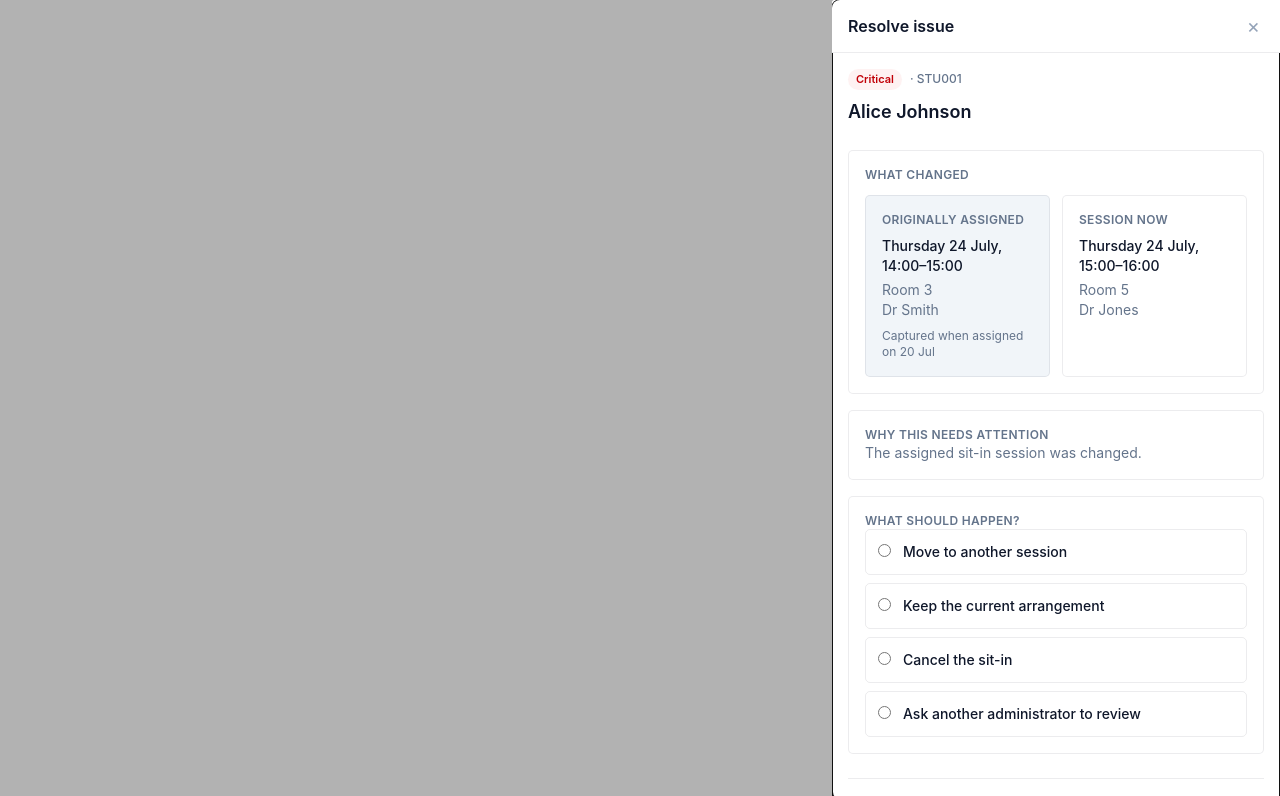
Test case: IssueResolutionPanel notification UX › UI-NOTIF-001: keep shows a keep-and-notify confirmation
The image size is (1280, 796).
Step 1. Click the text "Keep the current arrangement" → (1004, 605), box 903,596 -> 1104,614
(page scrolled)
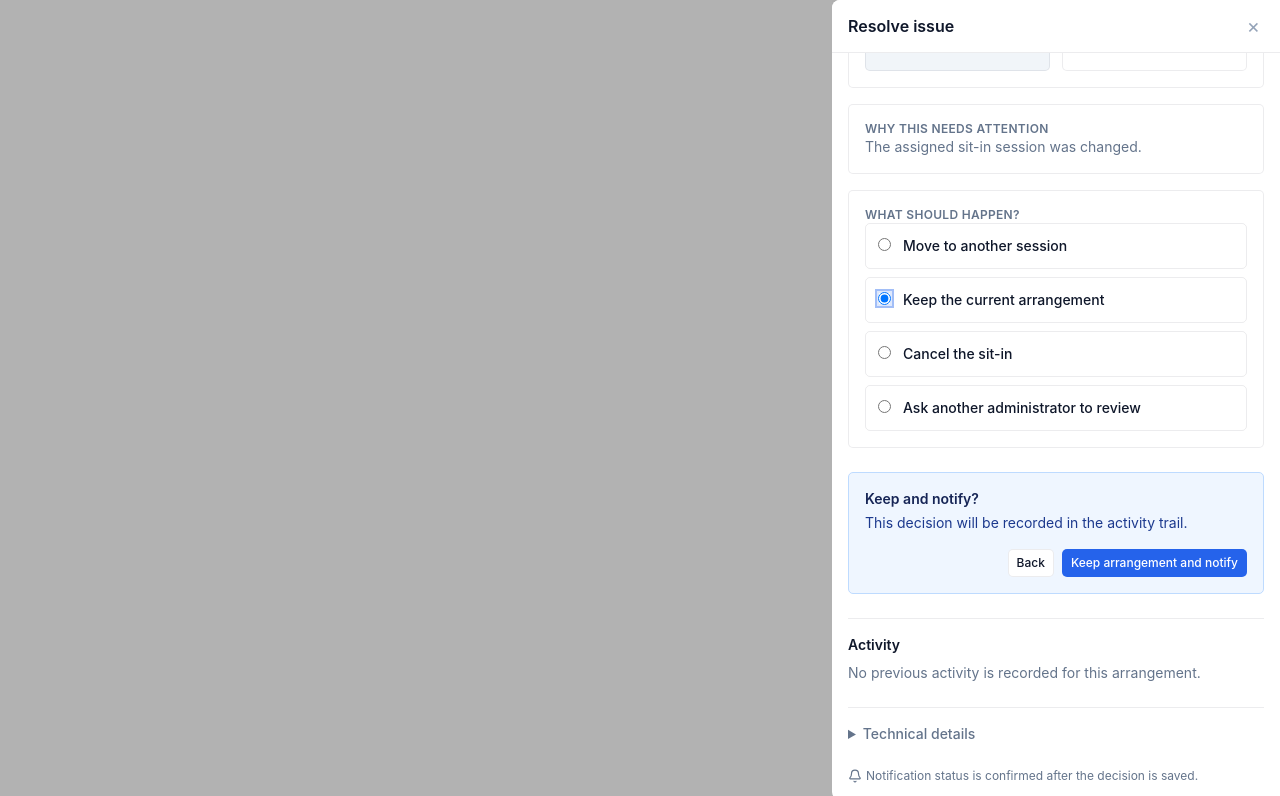
Now the heading "Keep and notify?" is shown, box 865,490 -> 979,506
Now the button "Keep arrangement and notify" is enabled, box 1062,548 -> 1247,576
